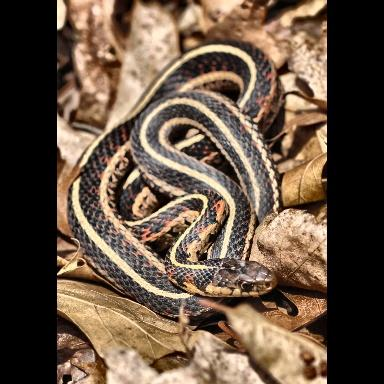snake: (72, 41, 296, 312)
